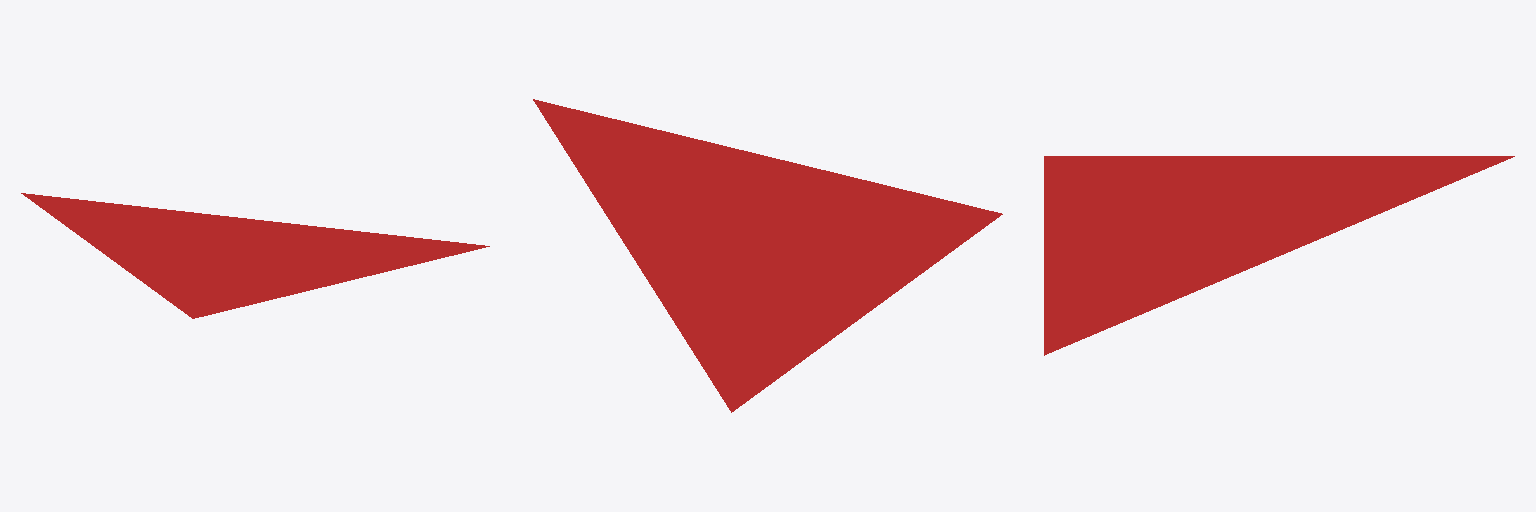
URDF robot description (unnamed_mat):
<?xml version="1.0"?>
<robot name="unnamed_mat">
  <link name="base_link">
    <inertial>
      <mass value="1.0"/>
      <inertia ixx="0.01" ixy="0" ixz="0" iyy="0.01" iyz="0" izz="0.01"/>
    </inertial>
    <visual>
      <geometry>
        <mesh filename="assets/unnamed_material.dae" scale="1 1 1"/>
      </geometry>
    </visual>
    <collision>
      <geometry>
        <box size="0.1 0.1 0.1"/>
      </geometry>
    </collision>
  </link>
</robot>

--- Facts derived from the render (not from the file) ---
The picture shows the robot from 3 angles, left to right: view 1: azimuth 30°, elevation 25°; view 2: azimuth 150°, elevation 25°; view 3: azimuth 270°, elevation 25°; orthographic projection.
Model unnamed_mat with 1 links and 0 joints (none), rooted at base_link, posed all joints at 0.
Visible links, largest first — view 1: base_link; view 2: base_link; view 3: base_link.
Boxes of the visible links, left/top/right/bottom form: base_link: left=21, top=193, right=489, bottom=318; base_link: left=533, top=99, right=1002, bottom=412; base_link: left=1044, top=156, right=1514, bottom=355.
Bounding box of the posed robot: 1 × 1 × 0 m (x, y, z).
Meshes: 1 distinct files referenced, 1 mesh visuals loaded (1 Collada DAE).
